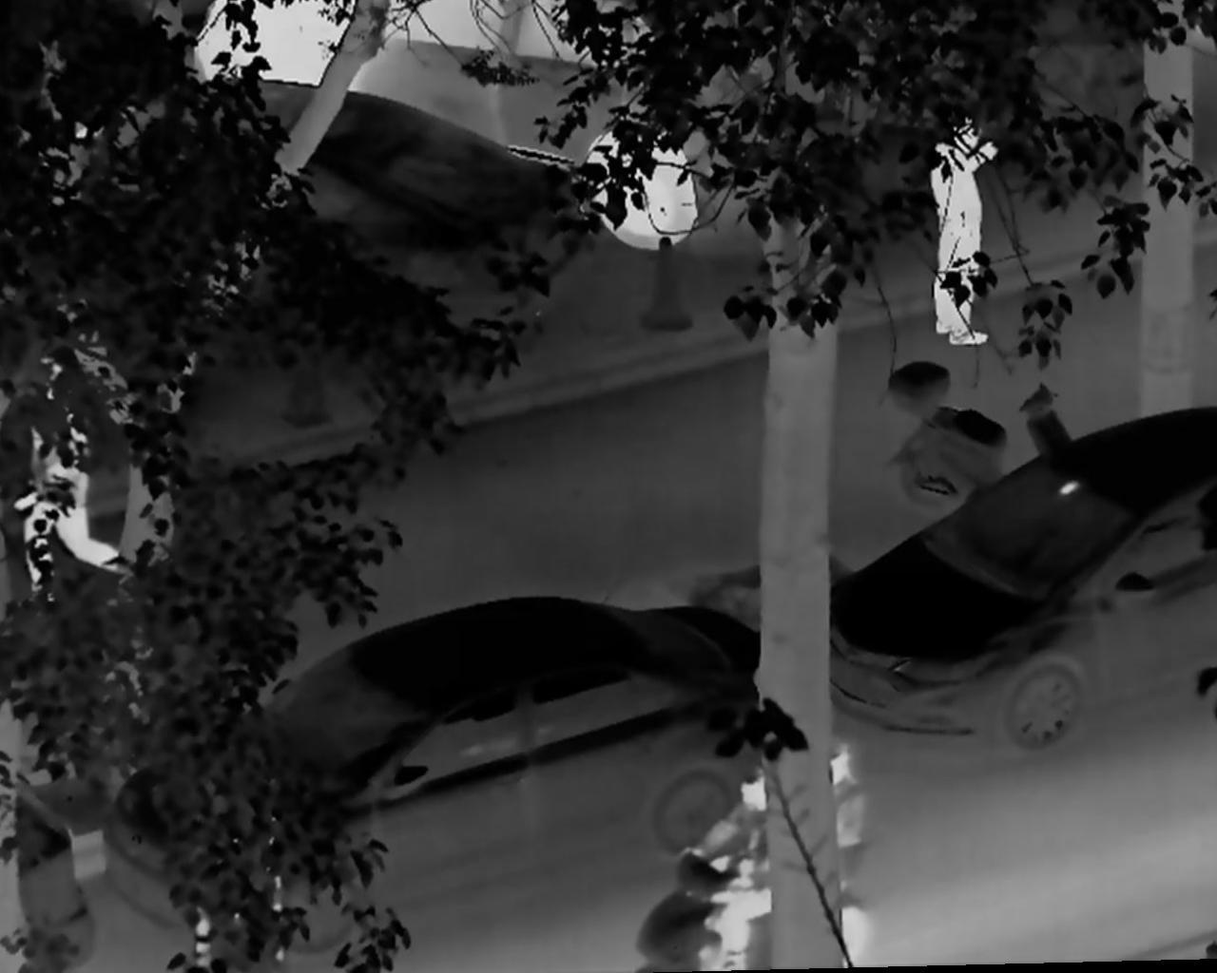person: (15, 347, 126, 615), (684, 763, 783, 967), (925, 113, 1007, 354), (813, 735, 864, 898)
